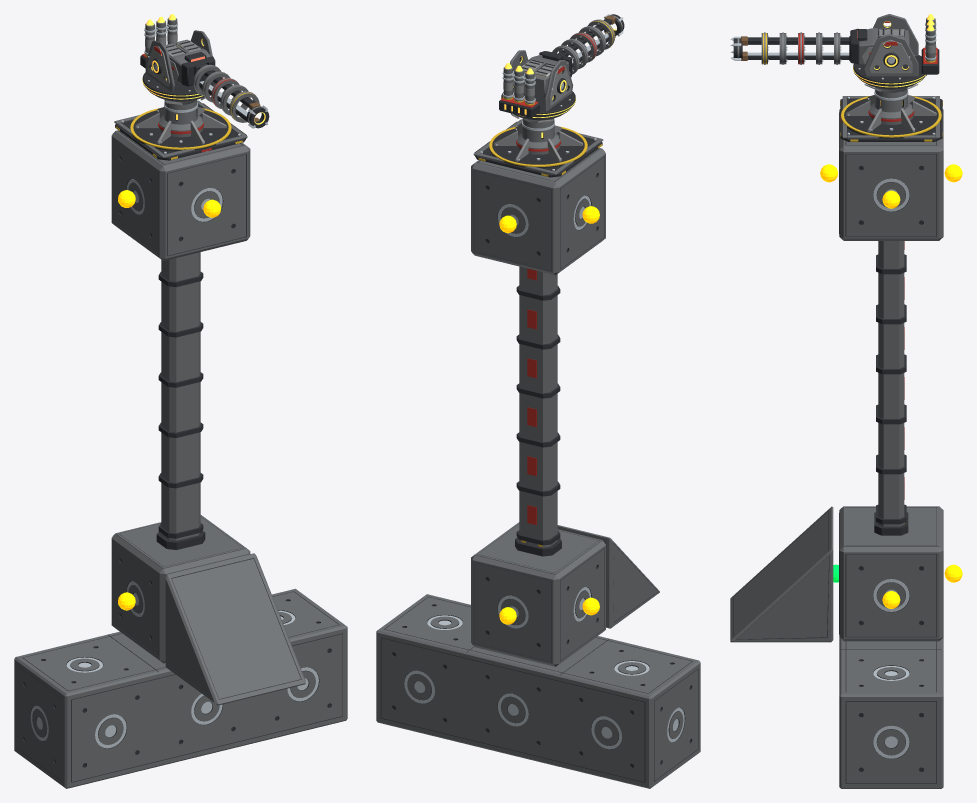
The model's file is ASM_long_mast.glb.
3 renders of one model, left to right at view 1: azimuth 30°, elevation 25°; view 2: azimuth 150°, elevation 25°; view 3: azimuth 270°, elevation 25°, orthographic. The views are drawn at different scales.
Visible parts, largest first — view 1: R4B_Beam3, R4C_STRUT_LONG, R4B_Wedge, R4W_Railgun_Base, R4W_Railgun_Yaw, R4W_Railgun_Rails, R4W_Railgun_Pitch; view 2: R4B_Beam3, R4C_STRUT_LONG, R4W_Railgun_Base, R4W_Railgun_Yaw, R4B_Wedge, R4W_Railgun_Rails, R4W_Railgun_Pitch; view 3: R4C_STRUT_LONG, R4B_Beam3, R4B_Wedge, R4W_Railgun_Base, R4W_Railgun_Yaw, R4W_Railgun_Rails, R4W_Railgun_Pitch.
Boxes of the visible parts, <box> form: R4B_Beam3: <box>14,588,347,788</box>; R4C_STRUT_LONG: <box>111,130,250,663</box>; R4B_Wedge: <box>165,553,305,705</box>; R4W_Railgun_Base: <box>114,89,247,160</box>; R4W_Railgun_Yaw: <box>140,14,215,97</box>; R4W_Railgun_Rails: <box>193,63,260,122</box>; R4W_Railgun_Pitch: <box>154,39,215,86</box>; R4B_Beam3: <box>376,594,700,788</box>; R4C_STRUT_LONG: <box>471,148,605,666</box>; R4W_Railgun_Base: <box>473,108,603,177</box>; R4W_Railgun_Yaw: <box>499,50,575,118</box>; R4B_Wedge: <box>557,525,659,628</box>; R4W_Railgun_Rails: <box>552,15,615,74</box>; R4W_Railgun_Pitch: <box>514,51,571,97</box>; R4C_STRUT_LONG: <box>839,109,943,641</box>; R4B_Beam3: <box>839,637,943,788</box>; R4B_Wedge: <box>730,506,833,642</box>; R4W_Railgun_Base: <box>840,77,942,141</box>; R4W_Railgun_Yaw: <box>853,14,939,85</box>; R4W_Railgun_Rails: <box>741,32,863,64</box>; R4W_Railgun_Pitch: <box>850,28,909,65</box>.
Size of the model in its own units: 1.62 by 3.85 by 1.16.
